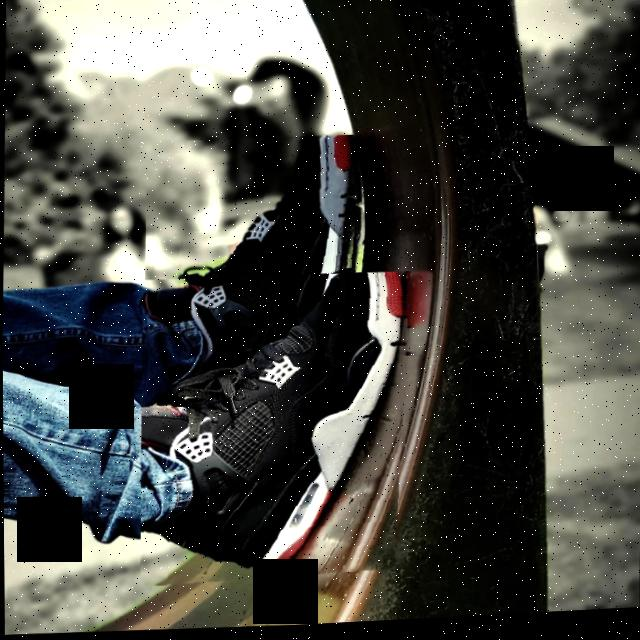shoe: (137, 270, 412, 593), (141, 134, 362, 402)
